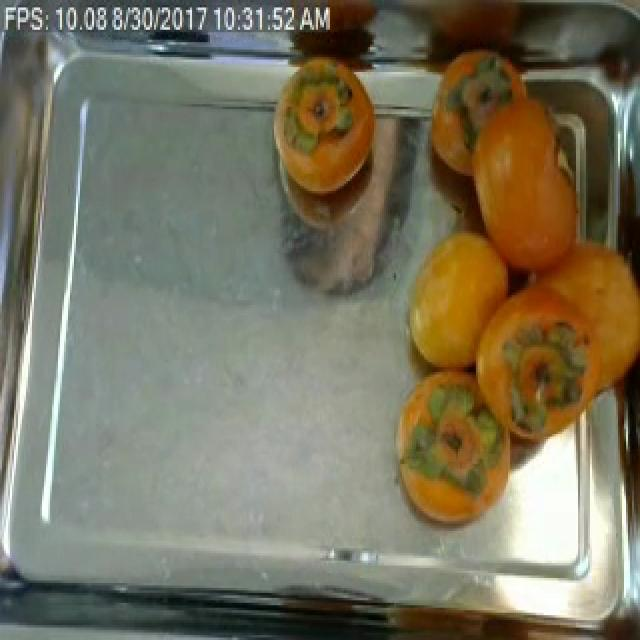Fruit: (264, 40, 384, 208)
